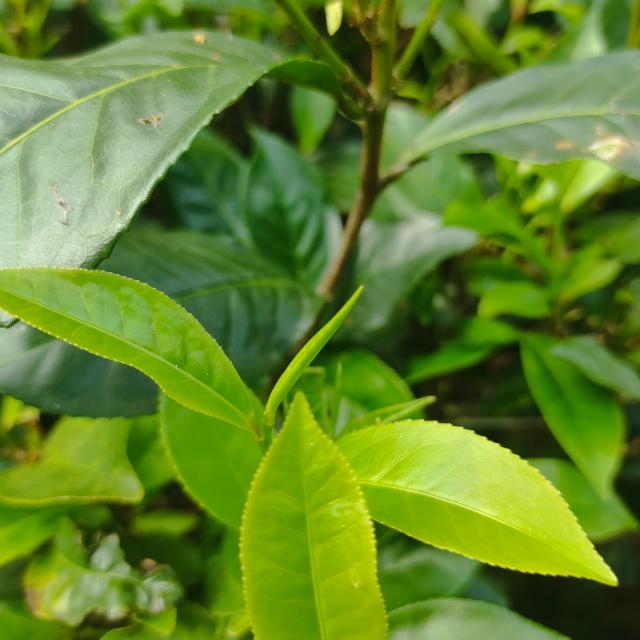unopened_leaf: (256, 278, 371, 443)
